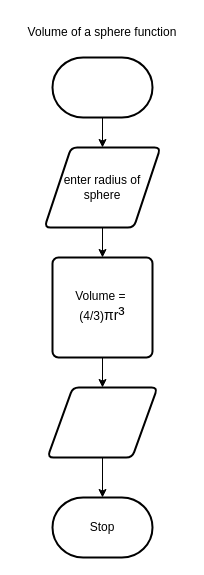
This 204x575 diagram has some shape labels left out. Each missing label, with the centre of its shape:
"Show volume" belongs at point 102,422.
"Start" belongs at point 102,87.
